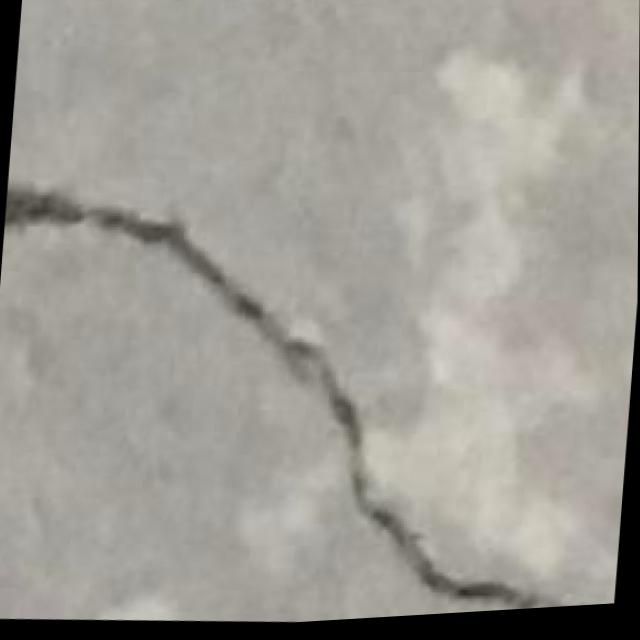Crack: (0, 152, 629, 640)
